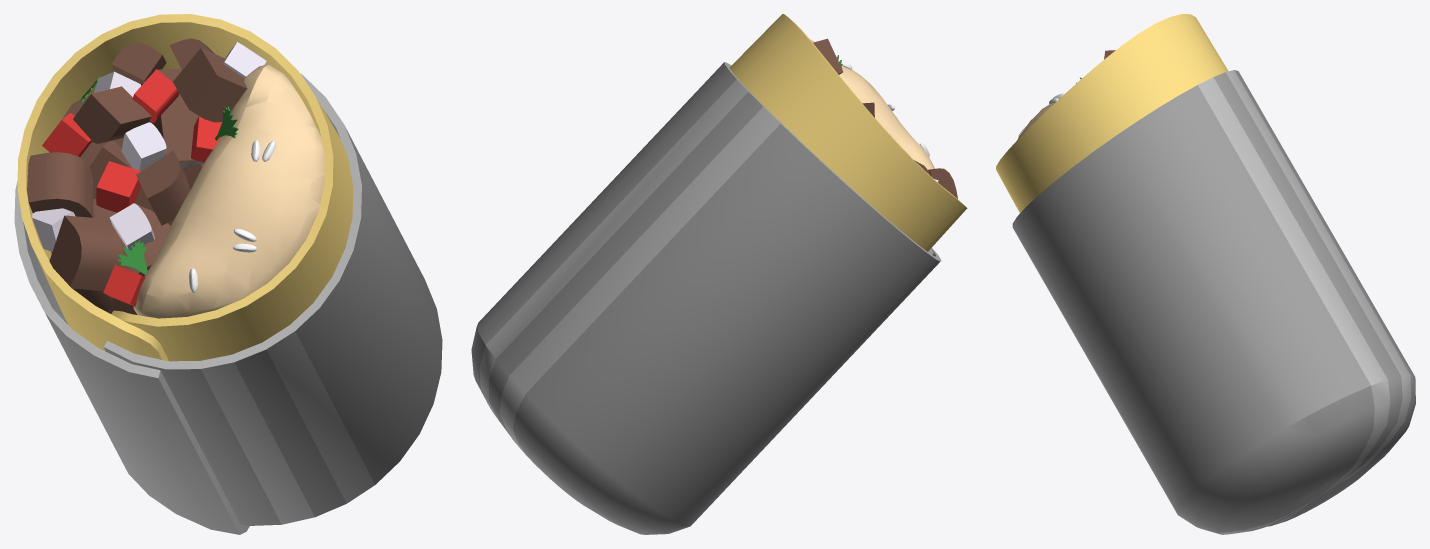
The model's file is burrito.glb.
3 views of the same model, side by side, from view 1: azimuth 30°, elevation 25°; view 2: azimuth 150°, elevation 25°; view 3: azimuth 270°, elevation 25° (orthographic). The views are drawn at different scales.
Visible parts, largest first — view 1: Circle.2212; view 2: Circle.2212; view 3: Circle.2212.
Part boxes in pixels (<box>): Circle.2212: <box>14,14,442,534</box>; Circle.2212: <box>471,14,967,534</box>; Circle.2212: <box>996,14,1415,534</box>.
Bounding box in the file's own units: 1.99 × 2.33 × 1.94.
Materials: 1 (1 with a texture image).
